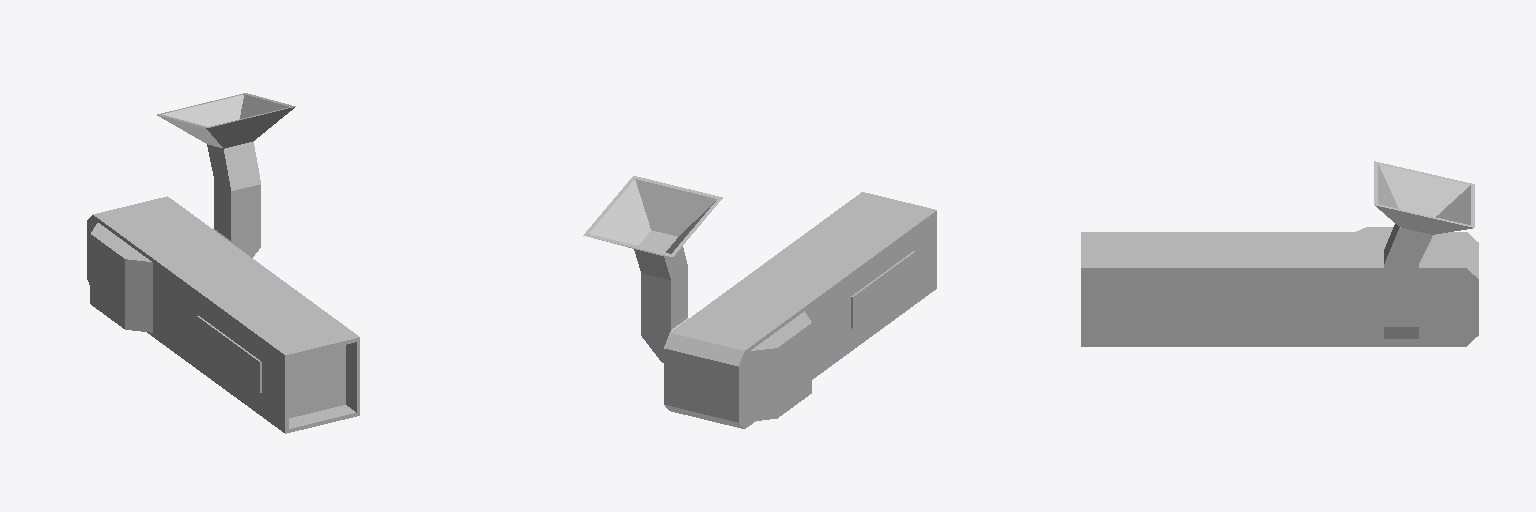
The model's file is cannon.obj.
3 views of the same model, side by side, from view 1: azimuth 30°, elevation 25°; view 2: azimuth 150°, elevation 25°; view 3: azimuth 270°, elevation 25° (orthographic).
Visible parts, largest first — view 1: cannon; view 2: cannon; view 3: cannon.
Part boxes in pixels (left/top/right/bottom): cannon: left=87, top=93, right=359, bottom=433; cannon: left=583, top=176, right=936, bottom=428; cannon: left=1081, top=161, right=1478, bottom=346.
Bounding box in the file's own units: 2.54 × 2.6 × 5.